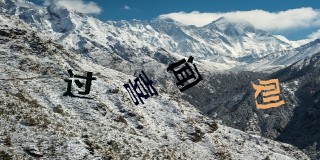则: (251, 78, 285, 110)
喜: (122, 70, 159, 106)
过: (62, 69, 96, 100)
闻: (167, 55, 203, 92)
